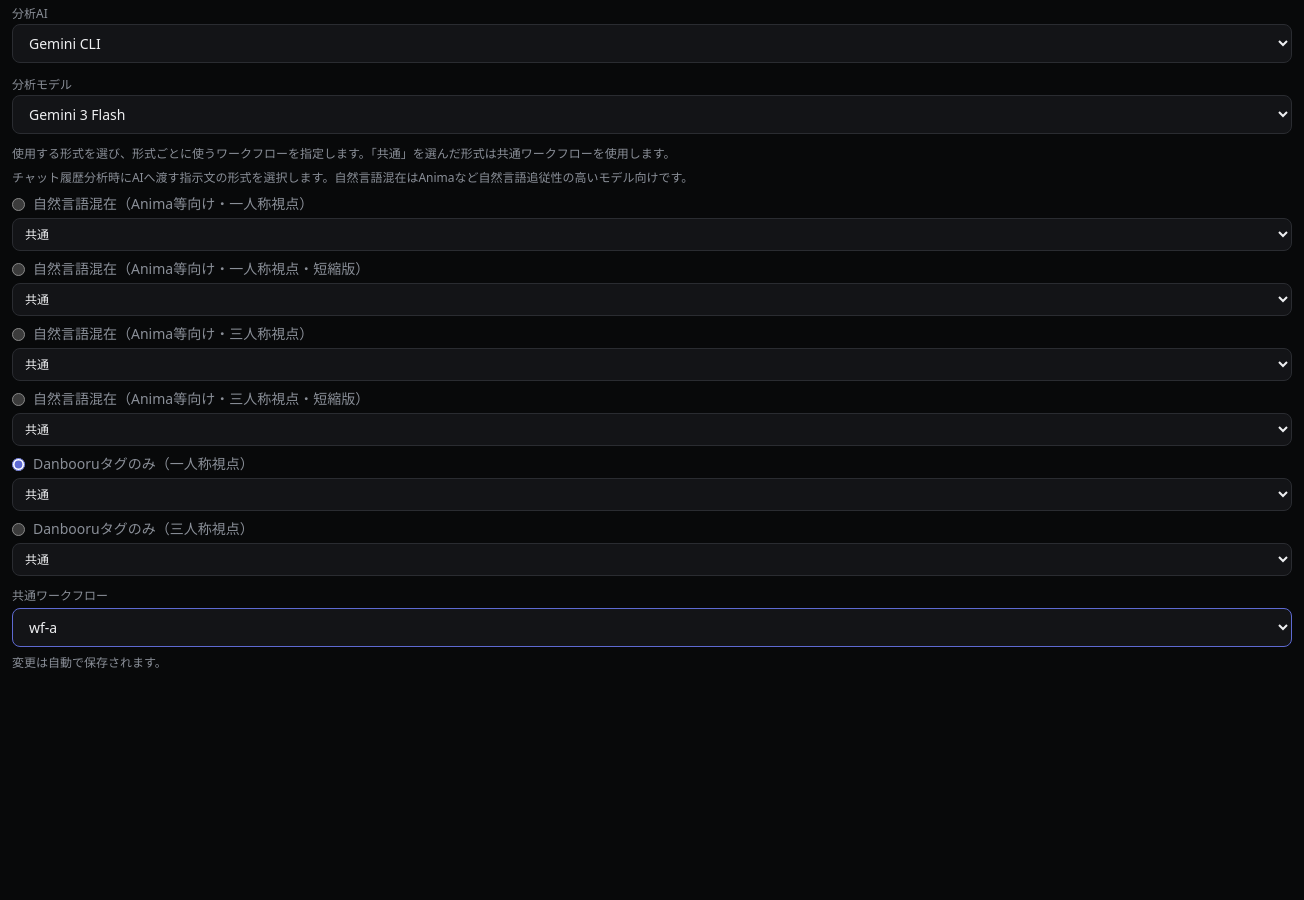
Test case: タグ判定・ワークフロー設定パネルの分析AI › API を選ぶと先頭モデルが自動選択され、最終的な保存に provider とモデルの両方が入る
This screenshot has width=1304, height=900.
Expected: the text "分析AI" is shown, left=12, top=5, right=48, bottom=22
Select "API（OpenAI互換）" in the dropdown labelled "分析AI" at (652, 44), box left=12, top=24, right=1292, bottom=63
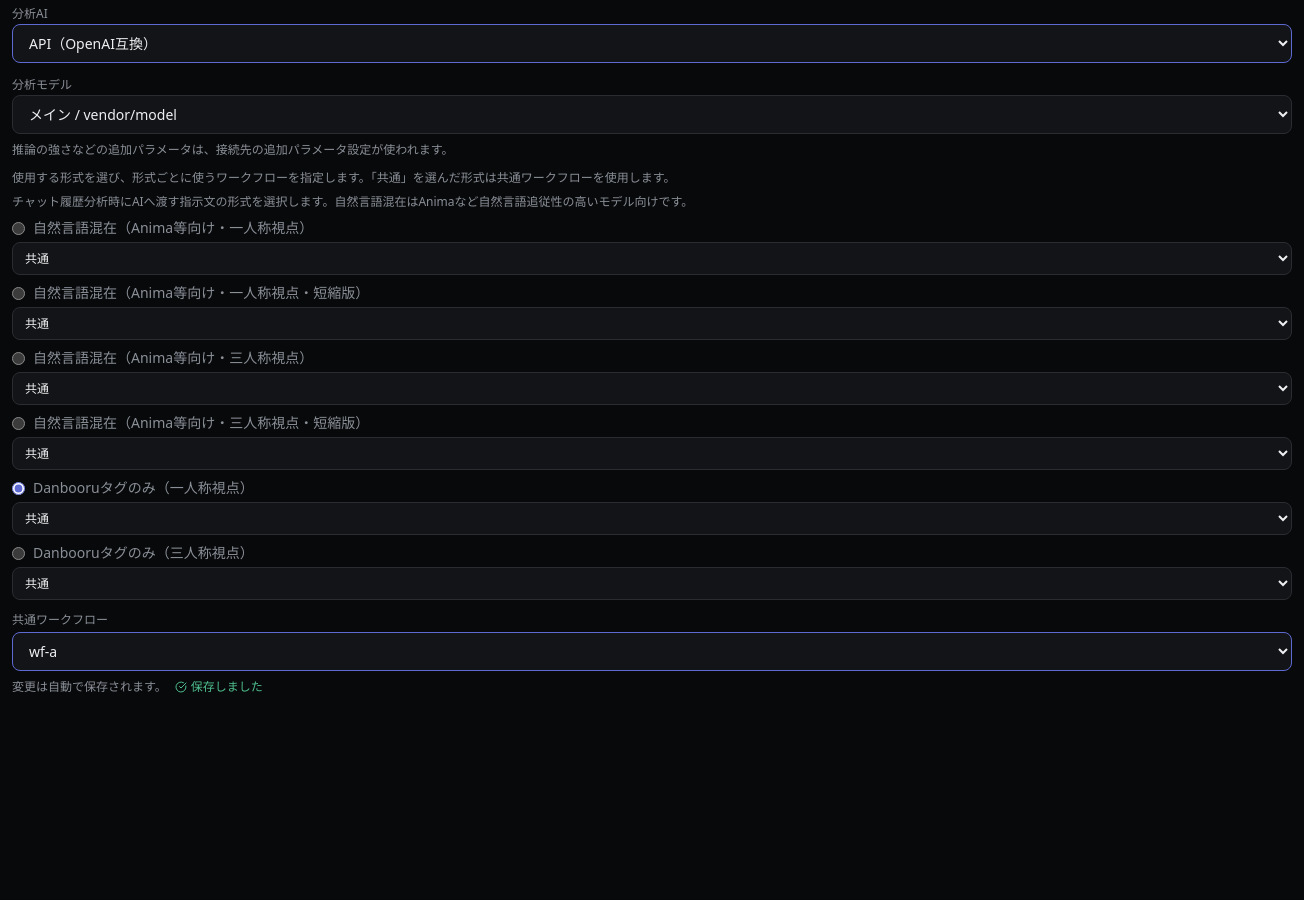
Expected: the dropdown labelled "分析モデル" shows "メイン / vendor/model", left=12, top=95, right=1292, bottom=134
